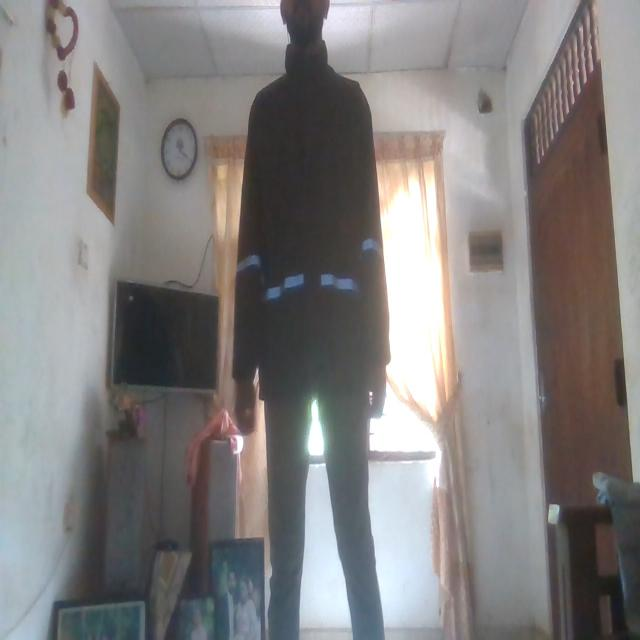Jacket_Wearer: (239, 44, 389, 418)
Person: (231, 0, 397, 640)
